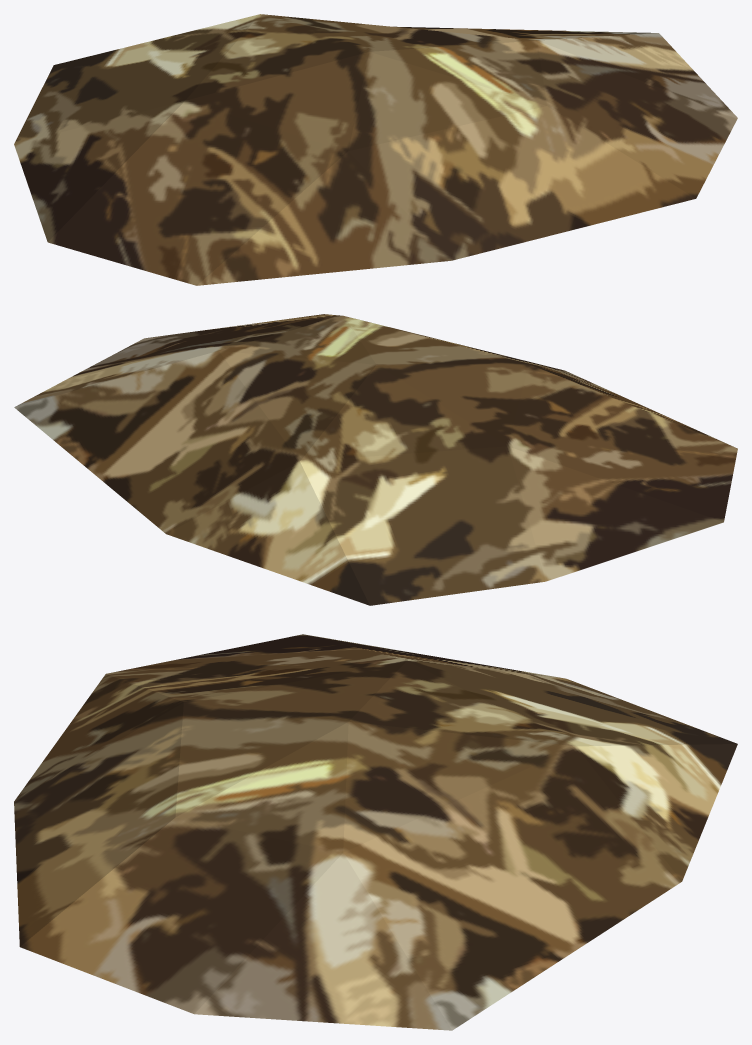
Rendered from Trash_pile_004.glb.
3 renders of one model, top to bottom at view 1: azimuth 30°, elevation 25°; view 2: azimuth 150°, elevation 25°; view 3: azimuth 270°, elevation 25°, orthographic. The views are drawn at different scales.
Parts seen in each view (by area): view 1: Trash_pile_004; view 2: Trash_pile_004; view 3: Trash_pile_004.
Boxes of the visible parts, x1,y1,x2,y2 form: Trash_pile_004: [14, 14, 737, 285]; Trash_pile_004: [14, 314, 737, 605]; Trash_pile_004: [14, 634, 737, 1030].
Bounding box in the file's own units: 0.4914 × 0.0654 × 0.3792.
Materials: 1 (1 with a texture image).
